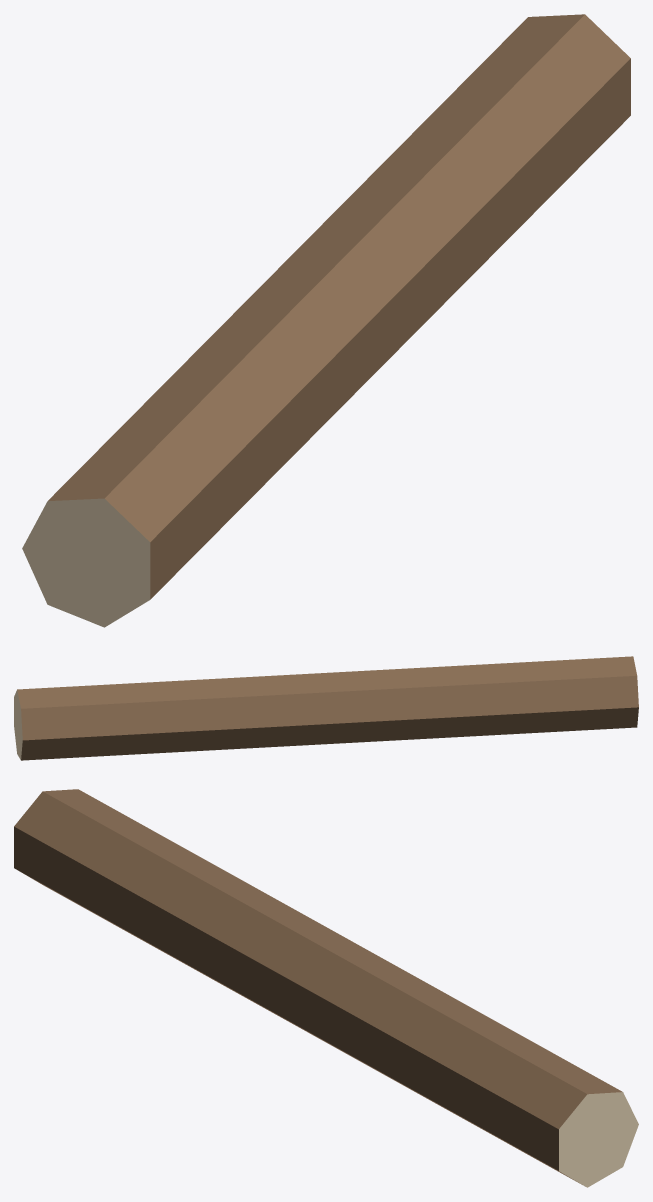
The model's file is tronco_caido_1.glb.
The picture shows the model from 3 angles, top to bottom: view 1: azimuth 30°, elevation 25°; view 2: azimuth 150°, elevation 25°; view 3: azimuth 270°, elevation 25°; orthographic projection. The views are drawn at different scales.
Visible parts, largest first — view 1: FallenLog_Front_1; view 2: FallenLog_Front_1; view 3: FallenLog_Front_1.
Boxes of the visible parts, <box> form: FallenLog_Front_1: <box>22,14,630,627</box>; FallenLog_Front_1: <box>14,656,638,760</box>; FallenLog_Front_1: <box>14,789,638,1187</box>.
Bounding box in the file's own units: 3.5 × 0.4648 × 2.81.
